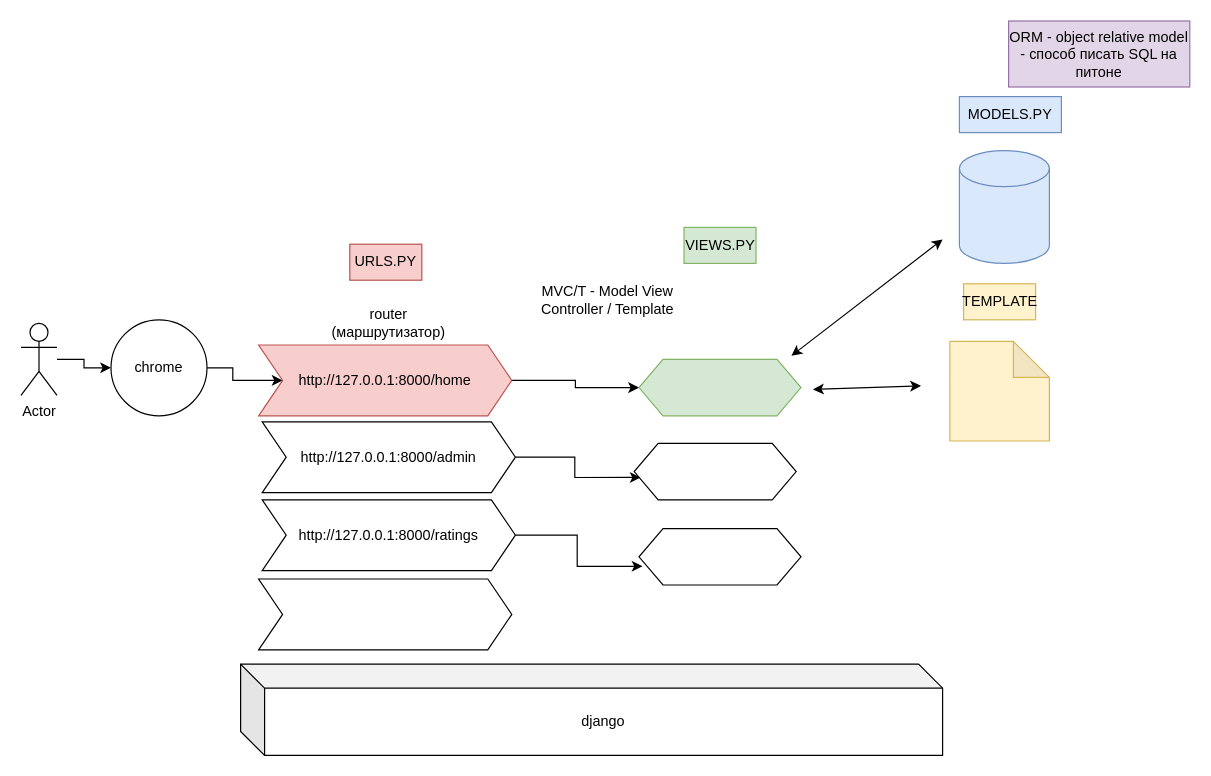
The diagram is 1211 pixels wide and 776 high, and some of its shapes have lost their labels. Here are the shapes that lost their labels. From the top down, the centre of each, then its label:
point (1003, 206): database
point (719, 387): def home
point (999, 390): home.html
point (714, 471): def admin
point (719, 556): def ratings
point (384, 614): http://127.0.0.1:8000/login
